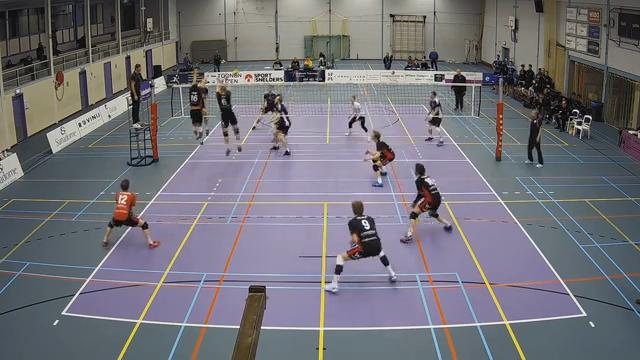attacco: (197, 77, 211, 138)
muro: (215, 69, 246, 158), (181, 65, 210, 143)
